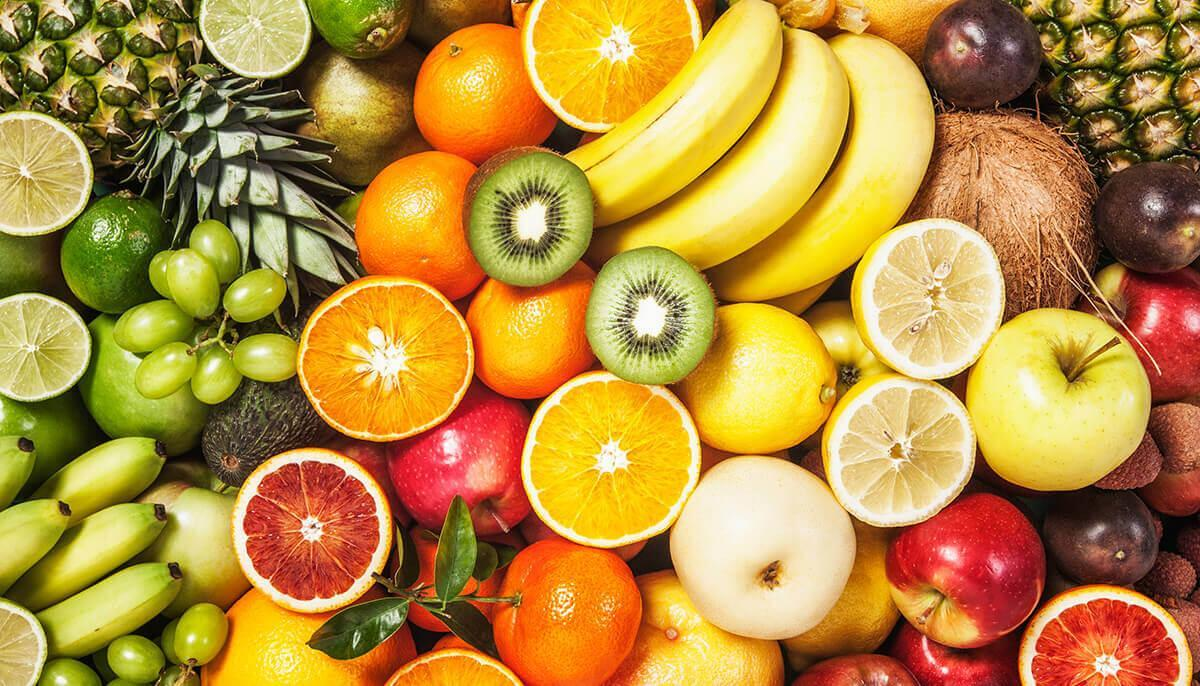apple: (888, 494, 1047, 650), (390, 395, 534, 534), (1099, 260, 1198, 406), (889, 624, 1023, 685), (788, 653, 921, 685)
